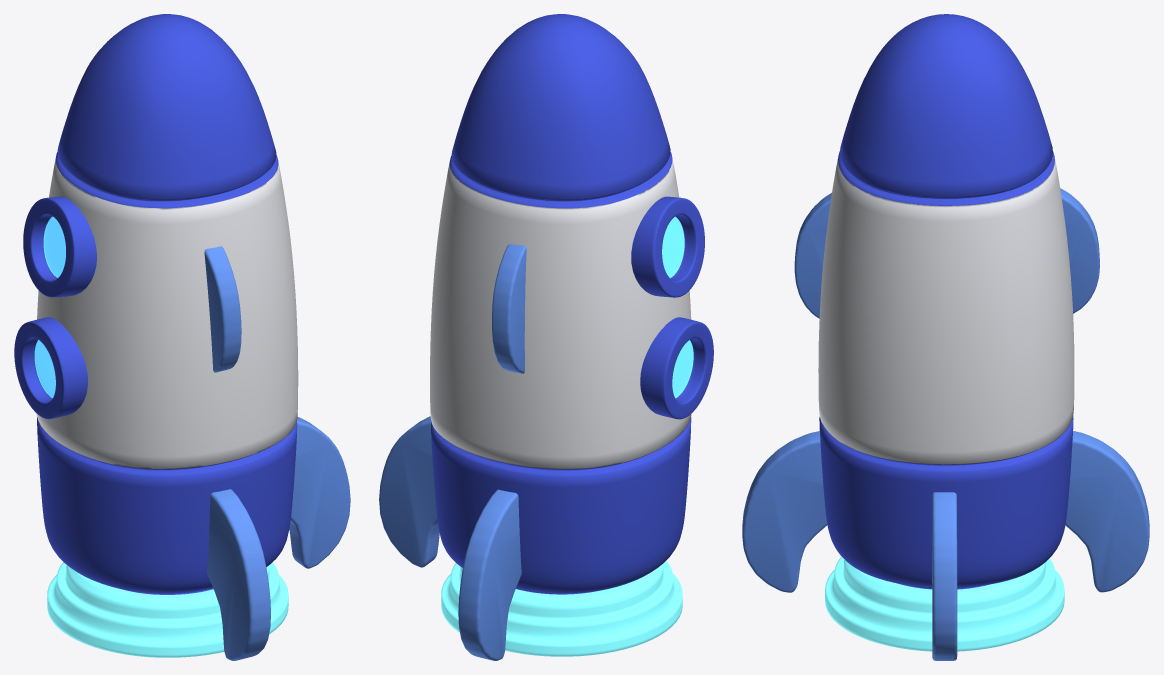
Rendered from RocketModel6.fbx.
3 renders of one model, left to right at view 1: azimuth 30°, elevation 25°; view 2: azimuth 150°, elevation 25°; view 3: azimuth 270°, elevation 25°, orthographic.
Visible parts, largest first — view 1: Cube.005, Circle.012, Circle.013, Cylinder, Cylinder.002, Circle.015; view 2: Cube.005, Circle.010, Circle.013, Cylinder, Cylinder.002, Circle.014; view 3: Cube.005, Circle.012, Circle.010, Circle.013, Circle.014, Circle.015.
Boxes of the visible parts, <box> form: Cube.005: <box>36,14,298,657</box>; Circle.012: <box>207,489,270,660</box>; Circle.013: <box>289,417,350,568</box>; Cylinder: <box>23,196,96,297</box>; Cylinder.002: <box>14,317,87,419</box>; Circle.015: <box>204,246,241,372</box>; Cube.005: <box>430,14,691,656</box>; Circle.010: <box>458,489,521,660</box>; Circle.013: <box>379,416,439,567</box>; Cylinder: <box>609,196,704,297</box>; Cylinder.002: <box>640,317,713,419</box>; Circle.014: <box>492,244,526,373</box>; Cube.005: <box>818,14,1074,651</box>; Circle.012: <box>742,431,827,592</box>; Circle.010: <box>1065,431,1149,592</box>; Circle.013: <box>932,492,957,660</box>; Circle.014: <box>994,188,1099,313</box>; Circle.015: <box>794,184,891,318</box>.
Bounding box in the file's own units: 264 × 486 × 307.
5 materials, 1 textured.
